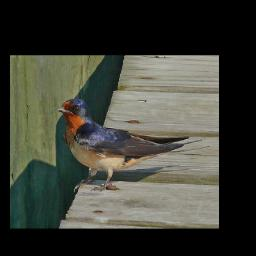Swallow: (56, 98, 187, 193)
